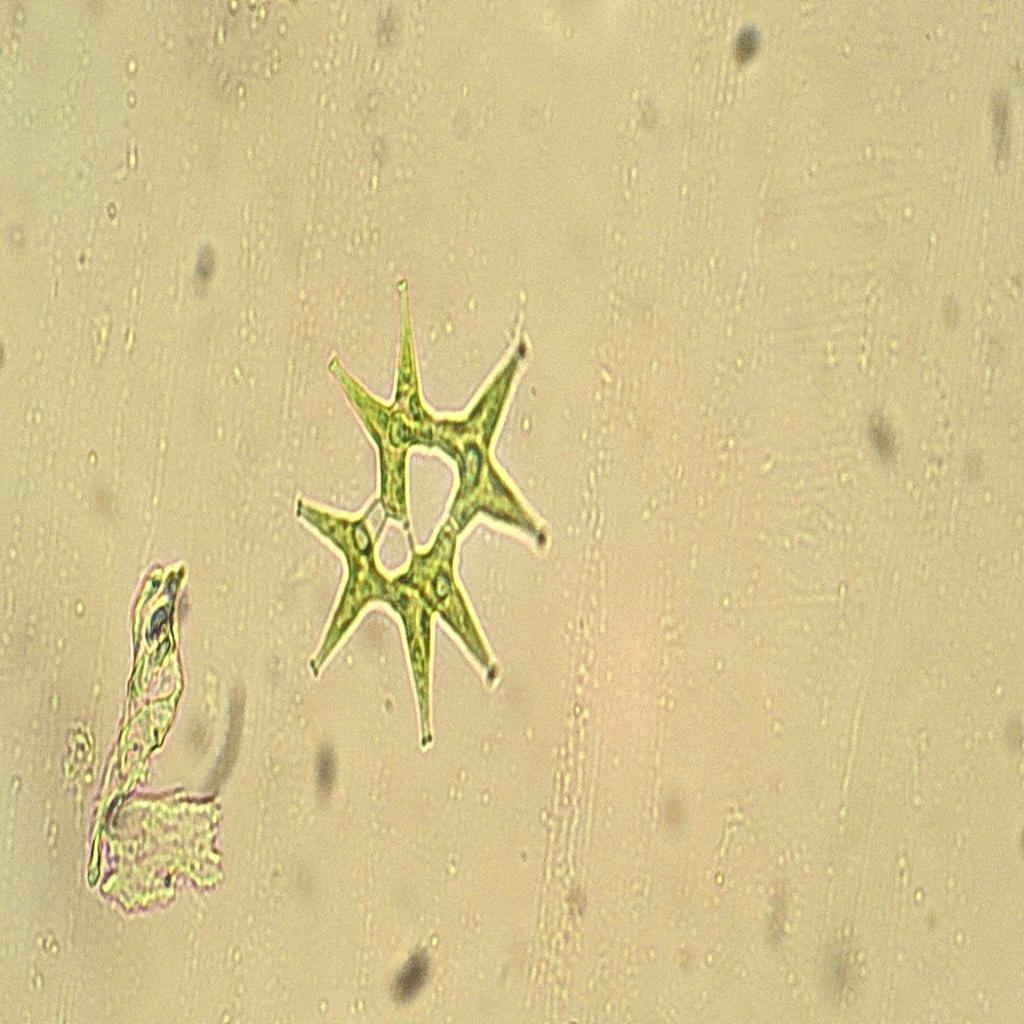Pediastrum_75FO: (284, 251, 558, 781)
